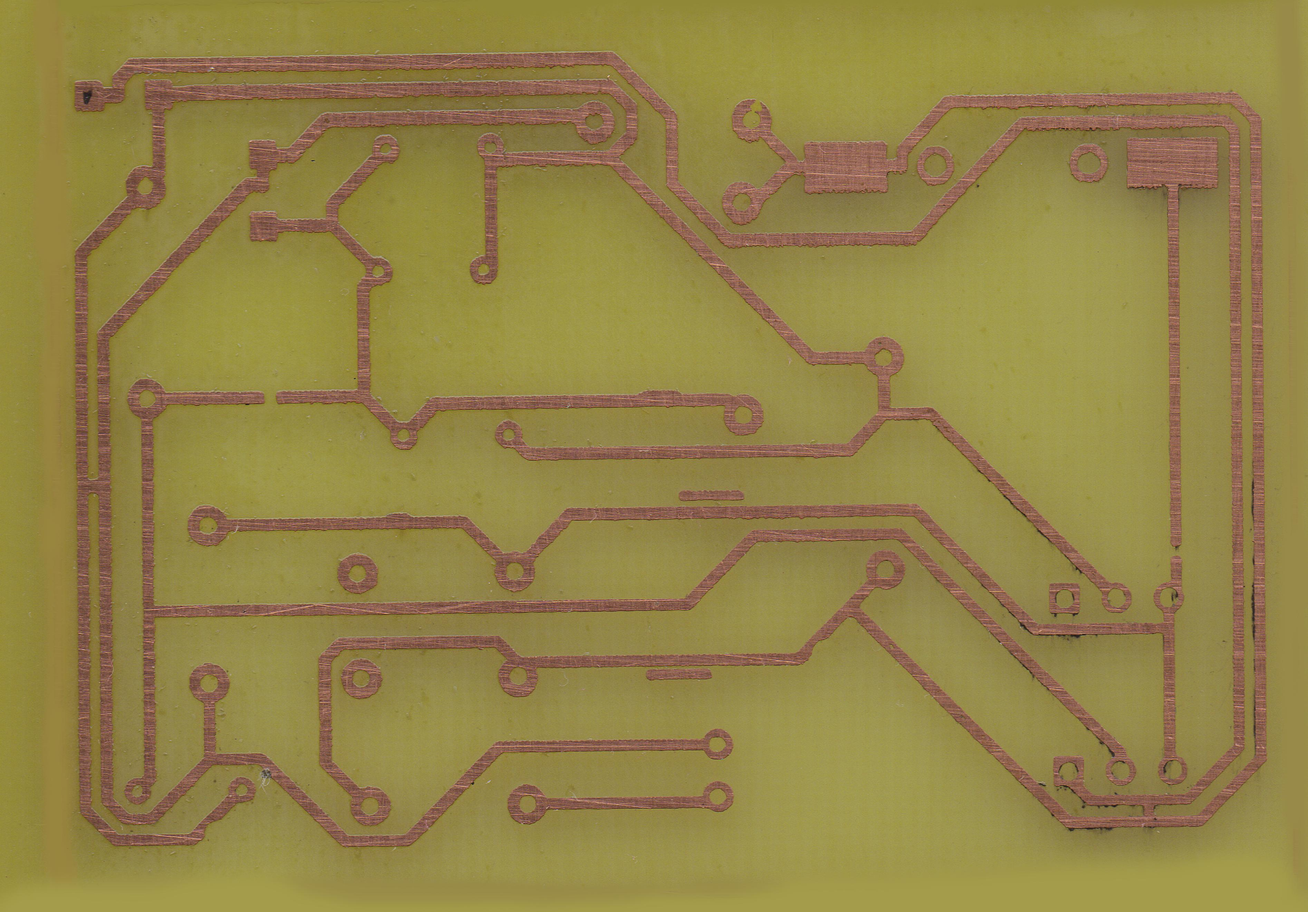missing_hole: (731, 98, 773, 143)
mouse_bite: (203, 818, 223, 839), (809, 638, 830, 655)
open_circuit: (256, 390, 285, 405), (1170, 540, 1183, 563)
short: (76, 473, 112, 498), (1137, 794, 1162, 827)
spur: (636, 387, 684, 407), (383, 510, 417, 533)
spurious_copper: (676, 488, 750, 503), (645, 667, 713, 682)
